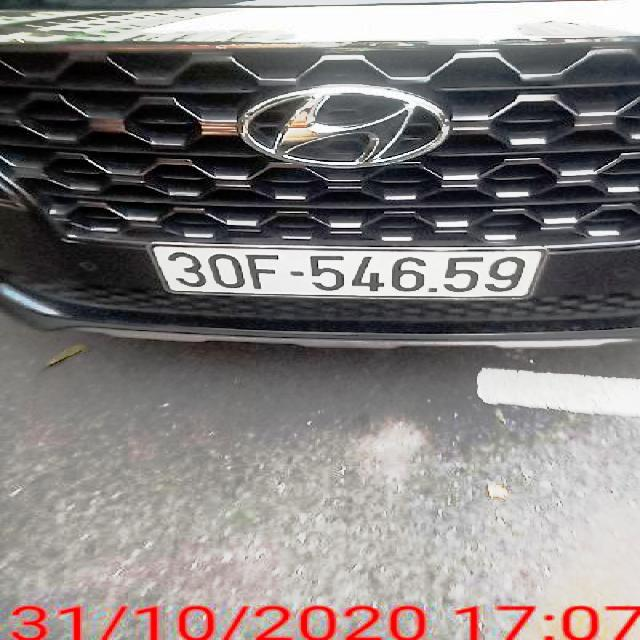license_plate: (152, 245, 545, 299)
